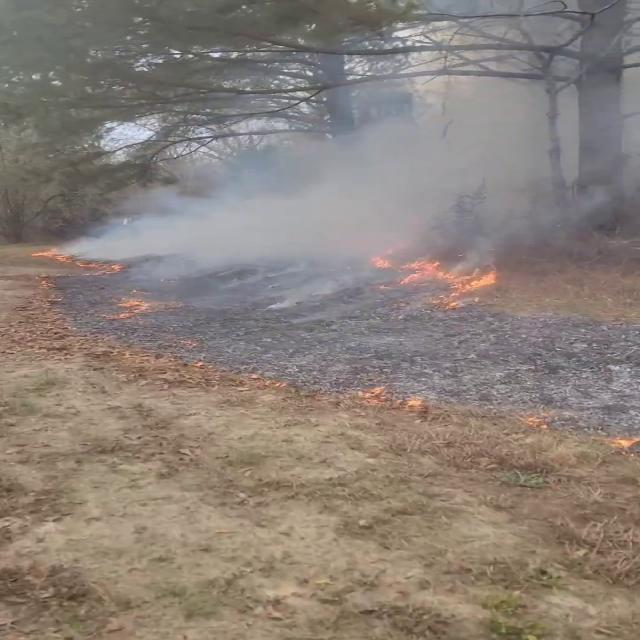Fire: (368, 248, 502, 308)
Smoke: (60, 72, 618, 286)
